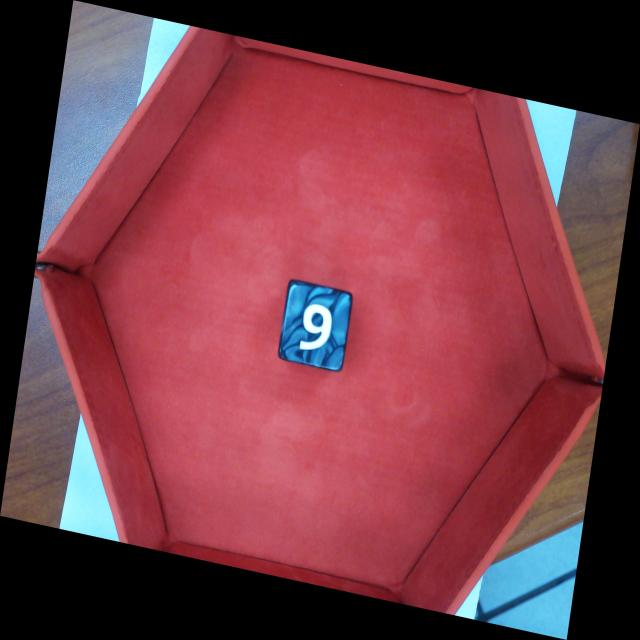dice: (280, 281, 353, 368)
